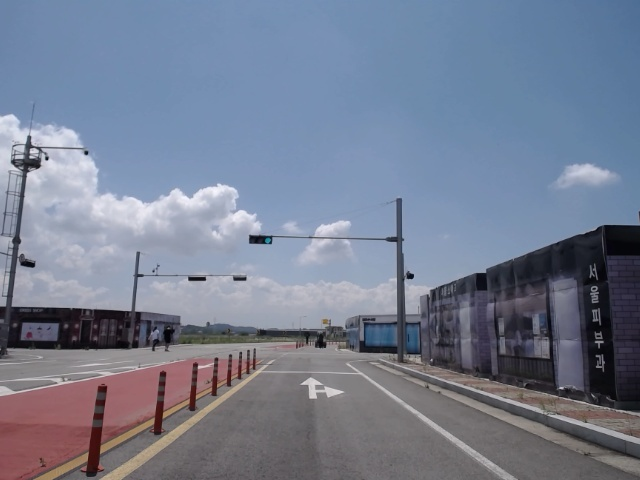green_3: (250, 235, 273, 244)
